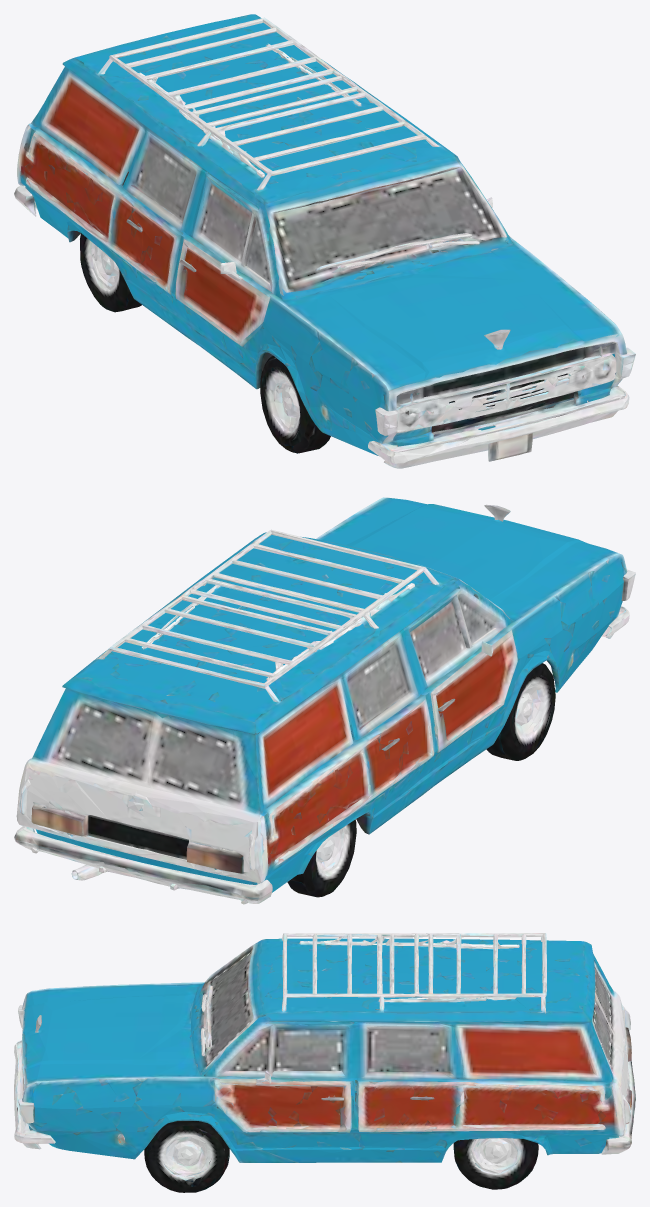
File: traffic-wagon.glb
The picture shows the model from 3 angles, top to bottom: view 1: azimuth 30°, elevation 25°; view 2: azimuth 150°, elevation 25°; view 3: azimuth 270°, elevation 25°; orthographic projection. The views are drawn at different scales.
Parts seen in each view (by area): view 1: geometry_0; view 2: geometry_0; view 3: geometry_0.
Boxes of the visible parts, x1,y1,x2,y2 form: geometry_0: (14, 14, 635, 468); geometry_0: (14, 497, 635, 904); geometry_0: (14, 933, 635, 1192).
Bounding box in the file's own units: 0.4117 × 0.3242 × 1.
Materials: 1 (1 with a texture image).
